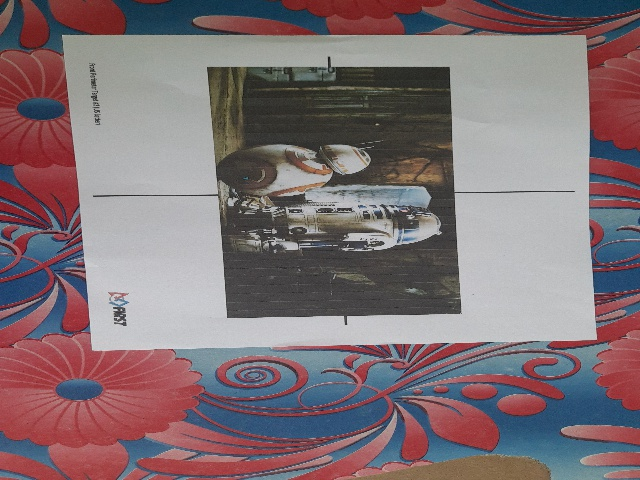fpt2: (81, 40, 589, 341)
